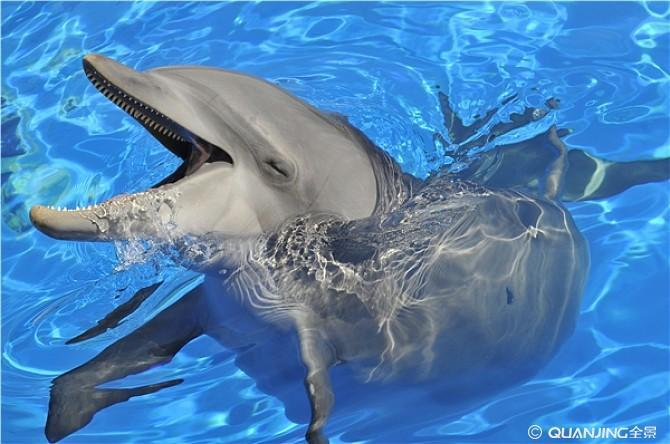fish: (29, 51, 670, 433)
